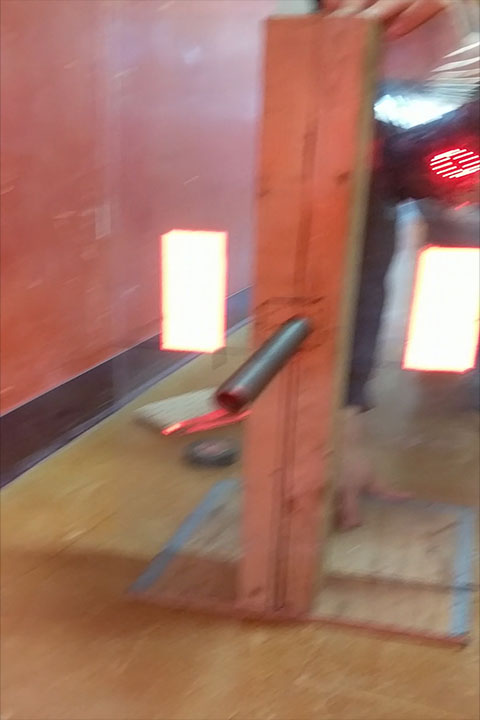gear: (401, 244, 480, 373), (159, 228, 227, 355)
